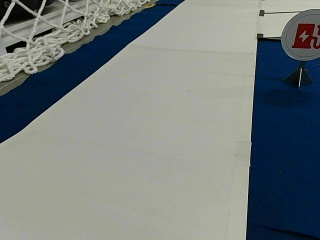battery: (282, 9, 319, 60)
